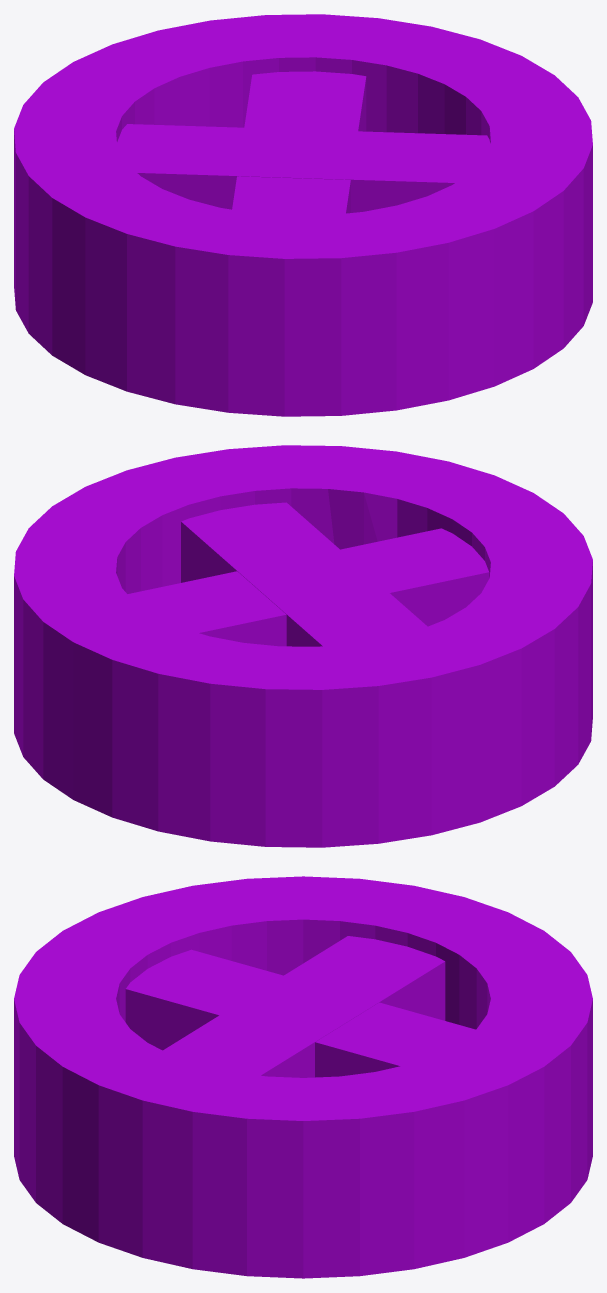
File: heloma_septico.gltf
The picture shows the model from 3 angles, top to bottom: view 1: azimuth 30°, elevation 25°; view 2: azimuth 150°, elevation 25°; view 3: azimuth 270°, elevation 25°; orthographic projection.
Parts seen in each view (by area): view 1: Cilindro, Cube.002, Cube; view 2: Cilindro, Cube.002, Cube; view 3: Cilindro, Cube.002, Cube.
Boxes of the visible parts, box(x1,y1,x2,y2) form: Cilindro: box(14, 14, 592, 416); Cube.002: box(117, 124, 489, 212); Cube: box(232, 71, 366, 215); Cilindro: box(14, 445, 592, 847); Cube.002: box(181, 502, 427, 646); Cube: box(127, 528, 489, 646); Cilindro: box(14, 876, 592, 1278); Cube.002: box(163, 936, 445, 1077); Cube: box(125, 949, 475, 1077).
Size of the model in its own units: 1.75 by 0.5262 by 1.75.
